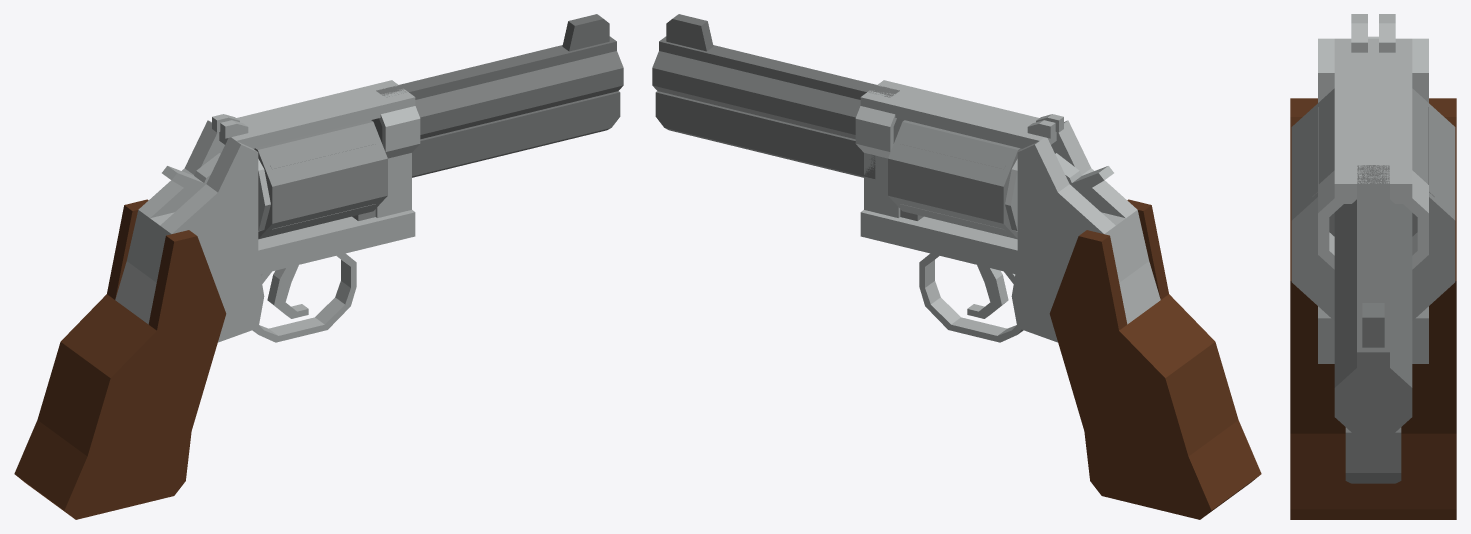
The model's file is revolver.glb.
3 views of the same model, side by side, from view 1: azimuth 30°, elevation 25°; view 2: azimuth 150°, elevation 25°; view 3: azimuth 270°, elevation 25° (orthographic). The views are drawn at different scales.
Parts seen in each view (by area): view 1: grip:revolver-grip, frame:revolver-frame, barrel:revolver-barrel, cylinder:revolver-cylinder, trigger:revolver-trigger, hammer:revolver-hammer; view 2: grip:revolver-grip, frame:revolver-frame, barrel:revolver-barrel, cylinder:revolver-cylinder, trigger:revolver-trigger, hammer:revolver-hammer; view 3: grip:revolver-grip, barrel:revolver-barrel, frame:revolver-frame, cylinder:revolver-cylinder.
Boxes of the visible parts, left/top/right/bottom form: grip:revolver-grip: left=14, top=199, right=226, bottom=519; frame:revolver-frame: left=115, top=80, right=420, bottom=342; barrel:revolver-barrel: left=371, top=14, right=623, bottom=177; cylinder:revolver-cylinder: left=254, top=120, right=387, bottom=239; trigger:revolver-trigger: left=267, top=265, right=308, bottom=318; hammer:revolver-hammer: left=162, top=153, right=220, bottom=193; grip:revolver-grip: left=1049, top=199, right=1261, bottom=519; frame:revolver-frame: left=855, top=80, right=1160, bottom=342; barrel:revolver-barrel: left=652, top=14, right=904, bottom=178; cylinder:revolver-cylinder: left=888, top=120, right=1021, bottom=239; trigger:revolver-trigger: left=967, top=265, right=1008, bottom=318; hammer:revolver-hammer: left=1055, top=153, right=1113, bottom=193; grip:revolver-grip: left=1290, top=98, right=1456, bottom=519; barrel:revolver-barrel: left=1329, top=165, right=1417, bottom=483; frame:revolver-frame: left=1318, top=14, right=1428, bottom=363; cylinder:revolver-cylinder: left=1291, top=88, right=1455, bottom=320.
Size of the model in its own units: 0.2846 by 0.1667 by 0.0431.
